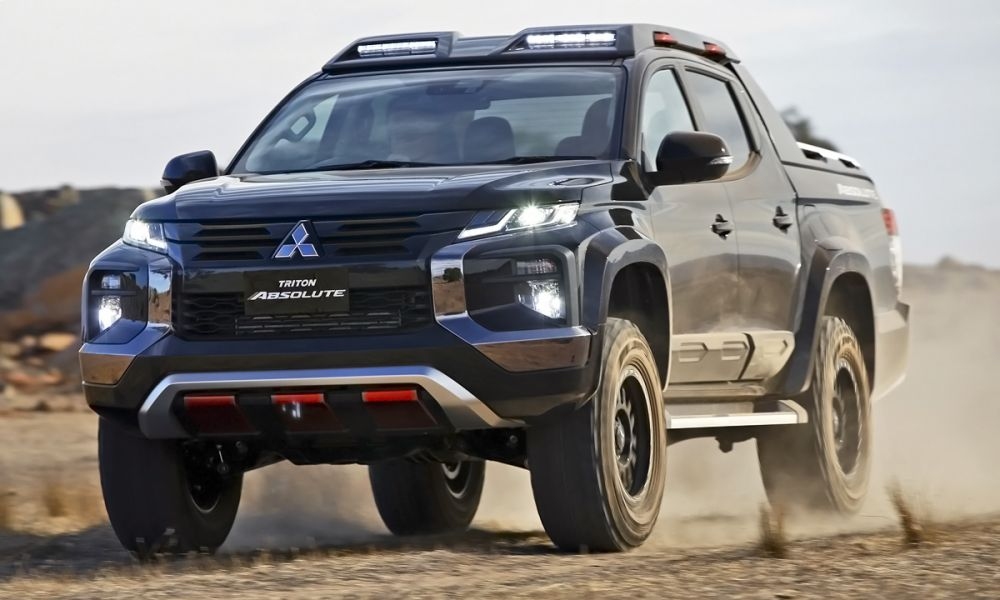pickup: (76, 23, 917, 557)
